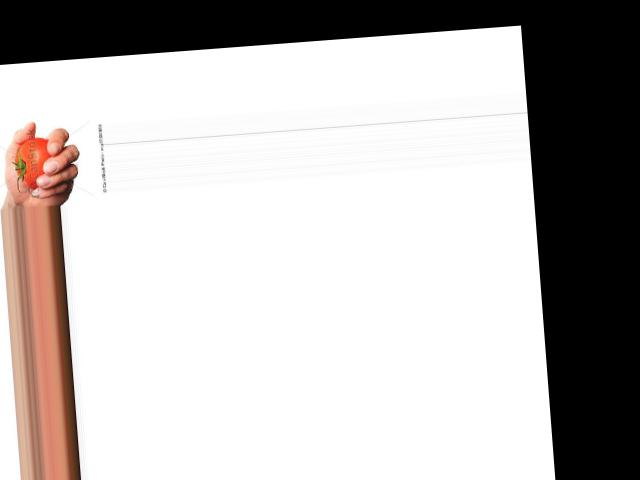tomato: (13, 136, 52, 189)
